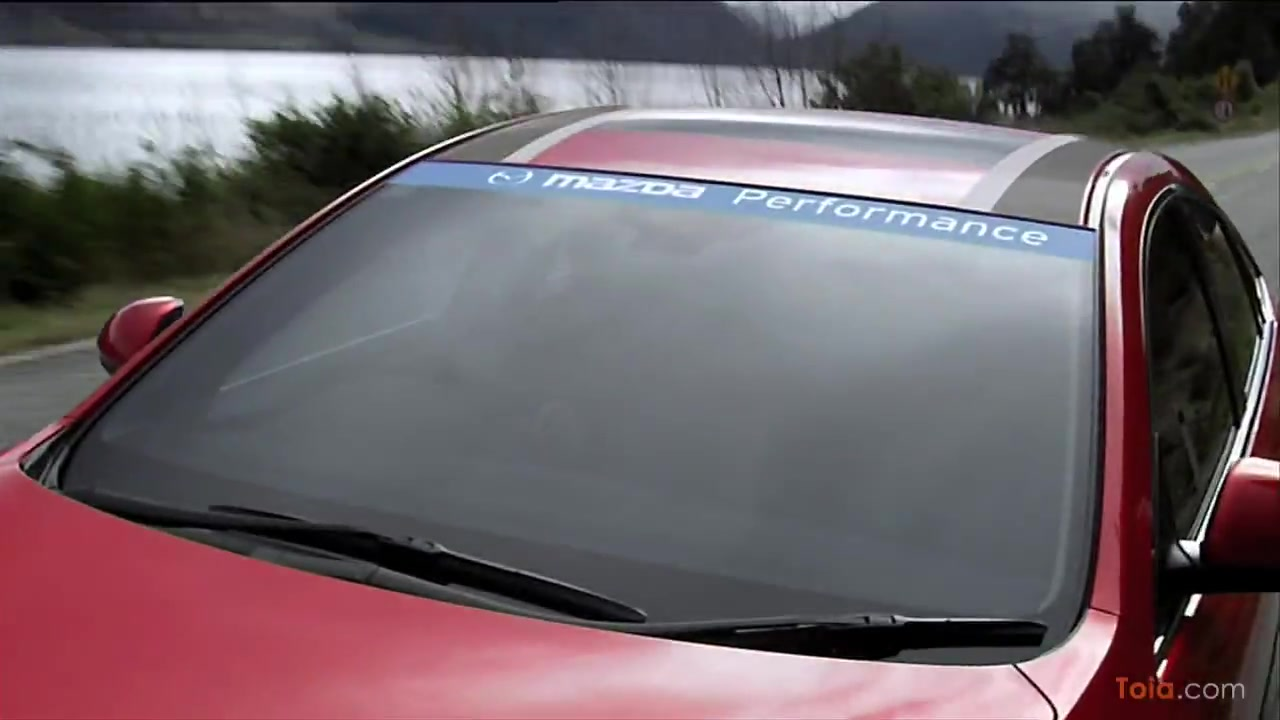car: (1, 108, 1280, 720)
